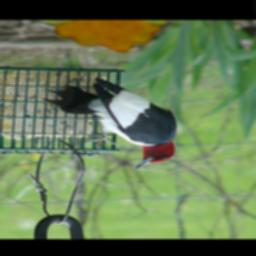Woodpecker: (41, 77, 176, 169)
